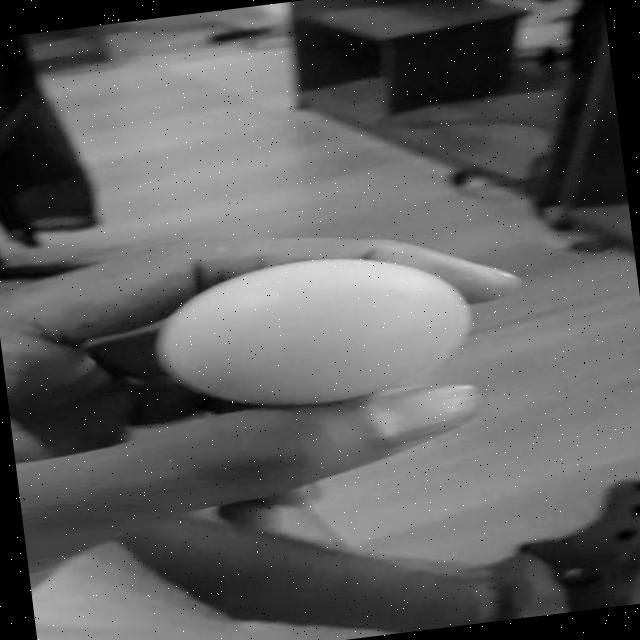ping-pong-ball: (150, 244, 476, 416)
